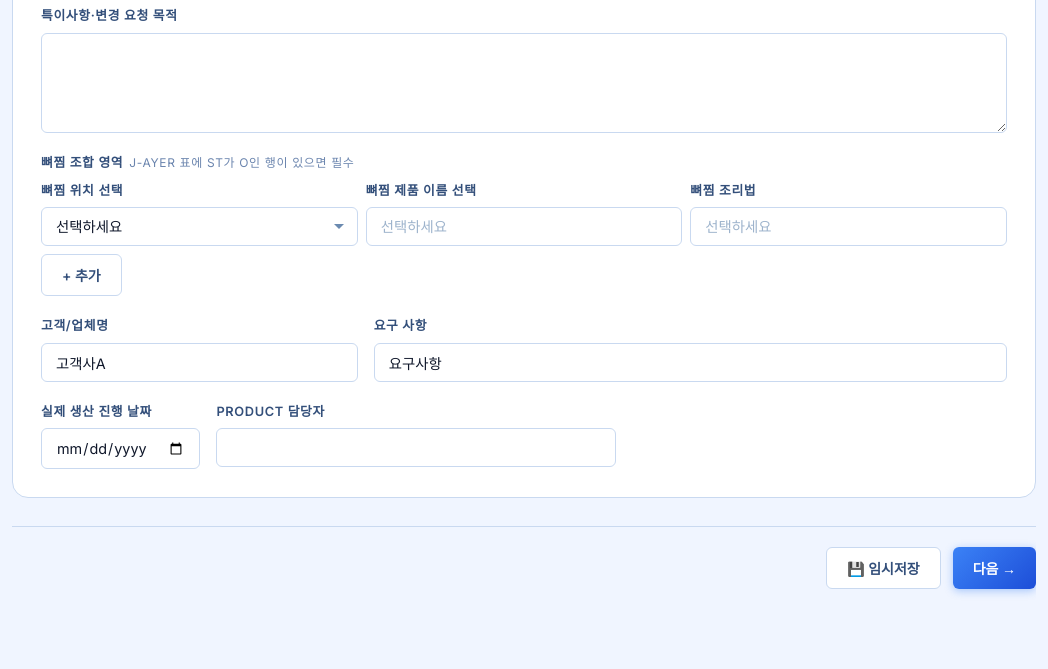
Test: 조합법 기준 단어 → 3번(inter) 자동 YES 고정 › 저장 문서를 다시 열면 기준 단어 조합법 + NEW 여도 저장된 3번(NO)을 그대로 두고 잠그지 않는다
(page scrolled)
Expected: the field showing "고객사A" below "고객/업체명" is shown, [41, 343, 358, 382]
Click the button "다음 →" at (994, 568), box [953, 547, 1036, 589]
(page scrolled)
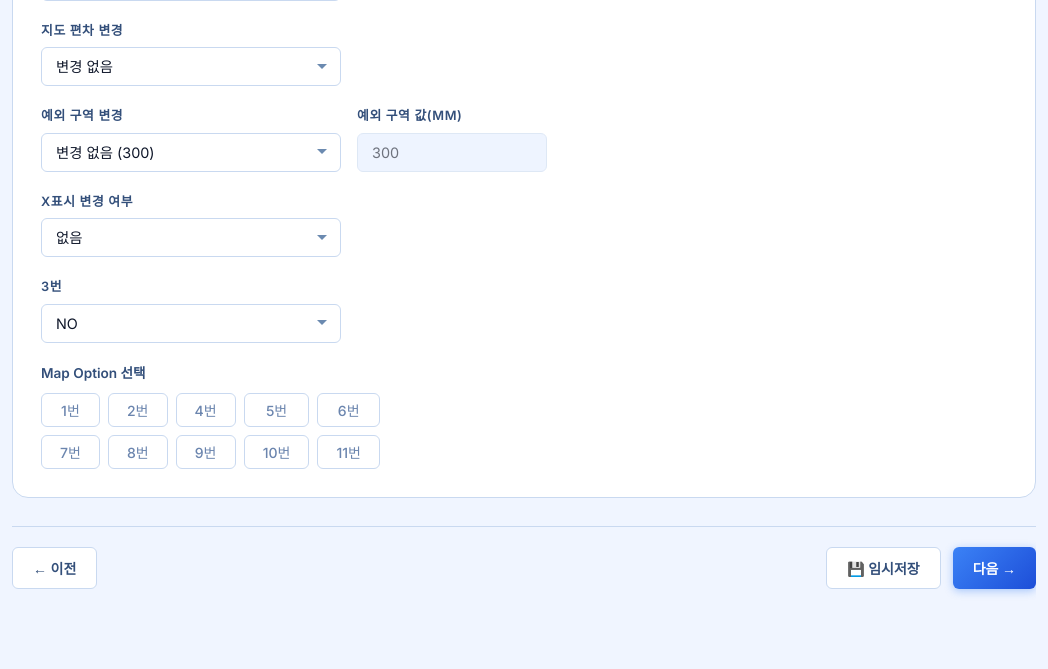
Expected: the dropdown below "3번" is enabled, [41, 304, 341, 343]
Result: the dropdown below "3번" shows "NO" at [41, 304, 341, 343]
